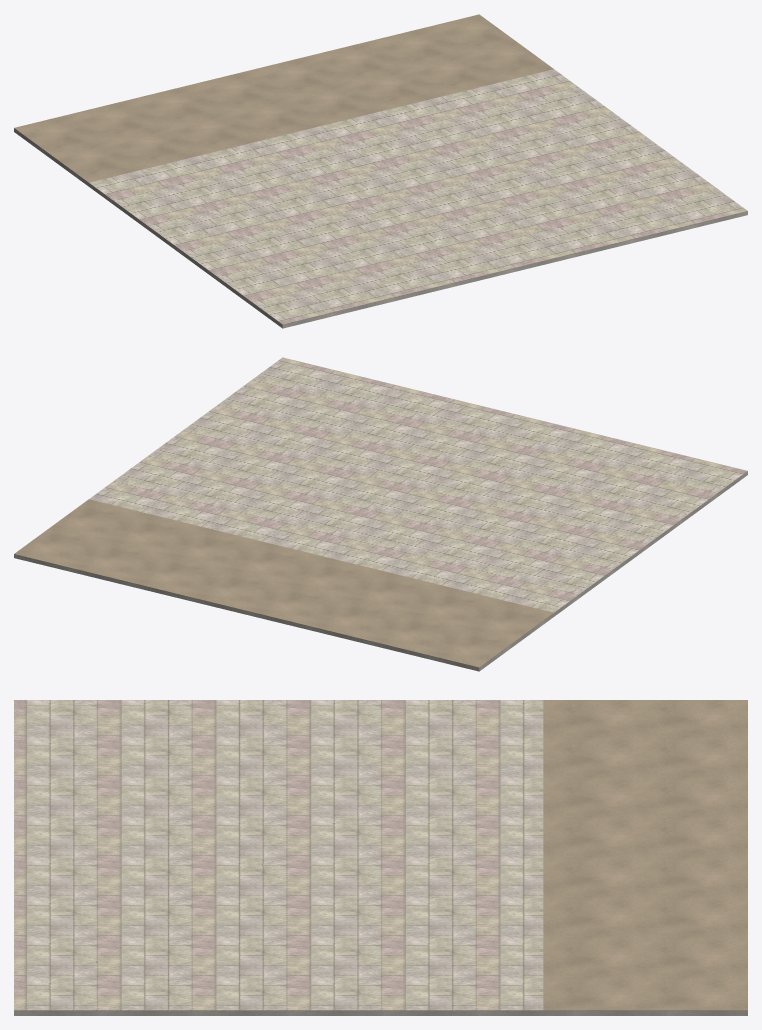
The model's file is floor_ground.glb.
The picture shows the model from 3 angles, top to bottom: view 1: azimuth 30°, elevation 25°; view 2: azimuth 150°, elevation 25°; view 3: azimuth 270°, elevation 25°; orthographic projection. The views are drawn at different scales.
Visible parts, largest first — view 1: floor_ground_stone_f, floor_ground_carpet2, floor_ground_concrete; view 2: floor_ground_stone_f, floor_ground_carpet2, floor_ground_concrete; view 3: floor_ground_stone_f, floor_ground_carpet2, floor_ground_concrete.
Part boxes in pixels (left/top/right/bottom): floor_ground_stone_f: left=89, top=69, right=747, bottom=324; floor_ground_carpet2: left=14, top=14, right=553, bottom=182; floor_ground_concrete: left=14, top=128, right=747, bottom=328; floor_ground_stone_f: left=89, top=357, right=747, bottom=612; floor_ground_carpet2: left=14, top=499, right=553, bottom=667; floor_ground_concrete: left=14, top=471, right=747, bottom=671; floor_ground_stone_f: left=14, top=700, right=543, bottom=1010; floor_ground_carpet2: left=543, top=700, right=747, bottom=1010; floor_ground_concrete: left=14, top=1010, right=747, bottom=1015.
Bounding box in the file's own units: 15.5 × 0.13 × 15.5.
Materials: 3 (3 with a texture image).
